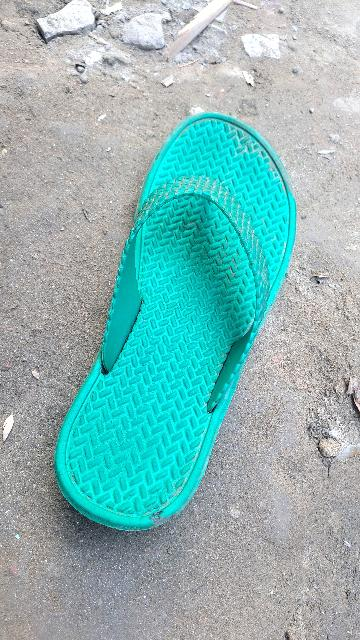sandal: (28, 104, 328, 553)
